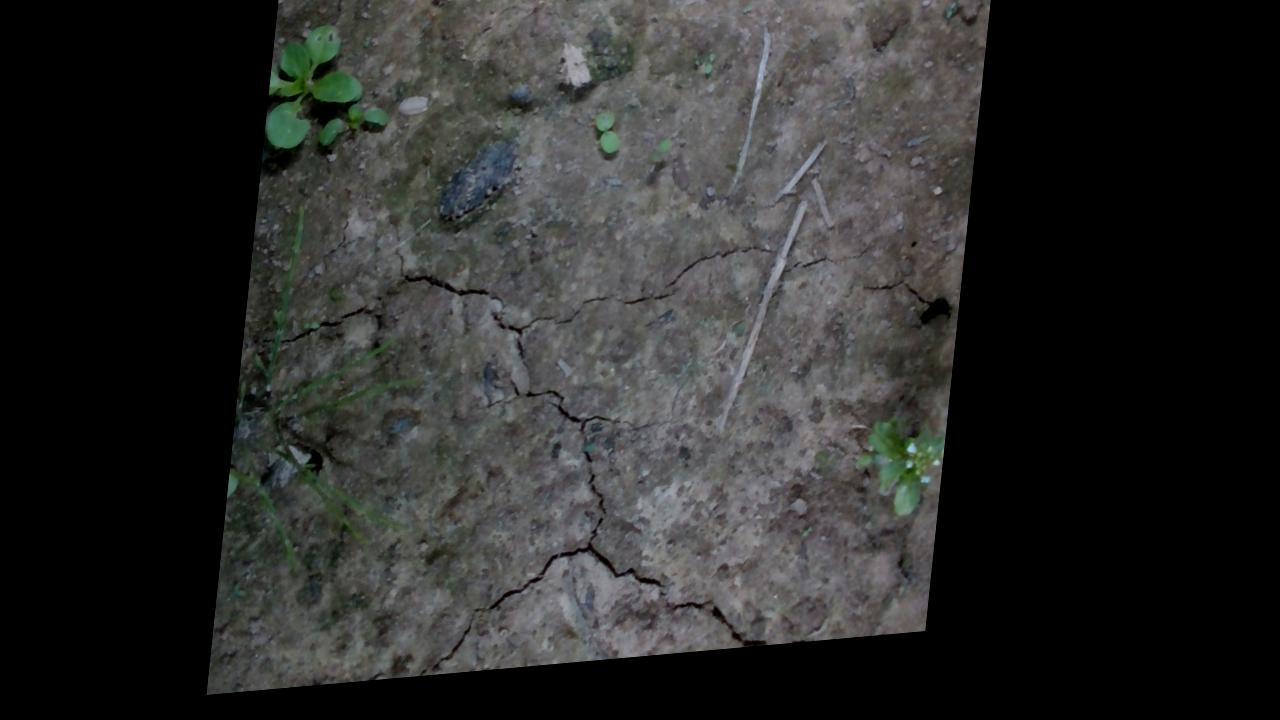weed: (595, 117, 631, 166)
